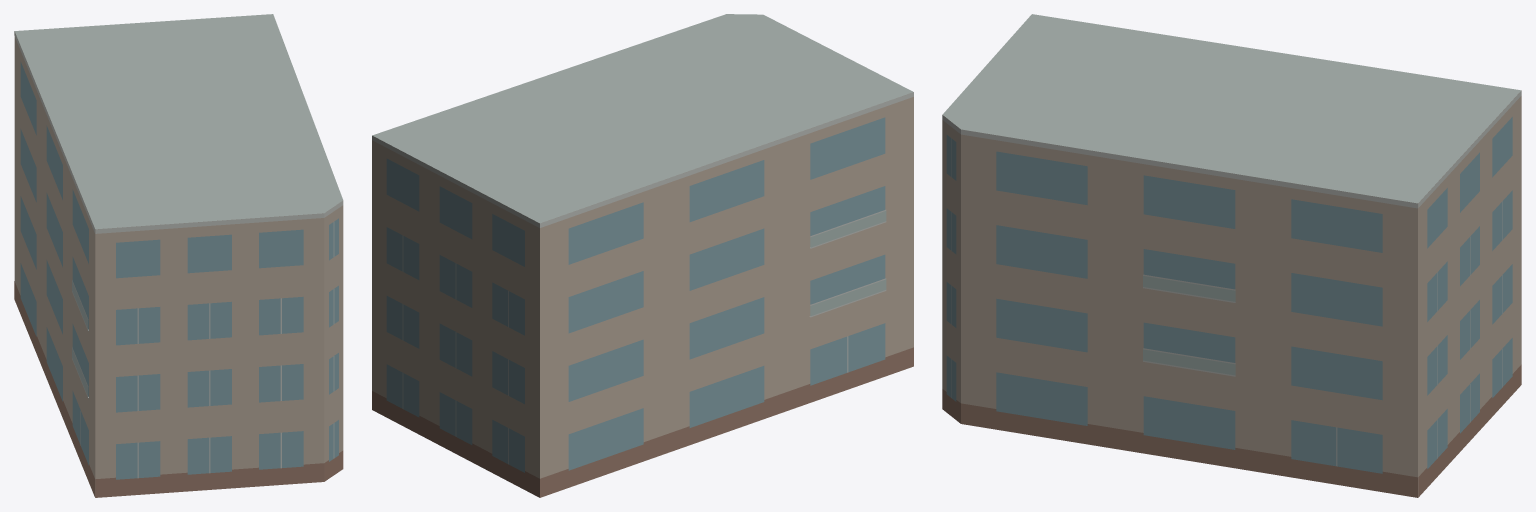
Rendered from survey-upis-32664749.glb.
3 renders of one model, left to right at view 1: azimuth 30°, elevation 25°; view 2: azimuth 150°, elevation 25°; view 3: azimuth 270°, elevation 25°, orthographic. The views are drawn at different scales.
Parts seen in each view (by area): view 1: survey-upis-32664749.tmp; view 2: survey-upis-32664749.tmp; view 3: survey-upis-32664749.tmp.
Boxes of the visible parts, x1=… form: survey-upis-32664749.tmp: x1=14, y1=14, x2=343, y2=497; survey-upis-32664749.tmp: x1=372, y1=14, x2=913, y2=497; survey-upis-32664749.tmp: x1=942, y1=14, x2=1521, y2=497.
Size of the model in its own units: 19.6 by 14.2 by 25.32.
